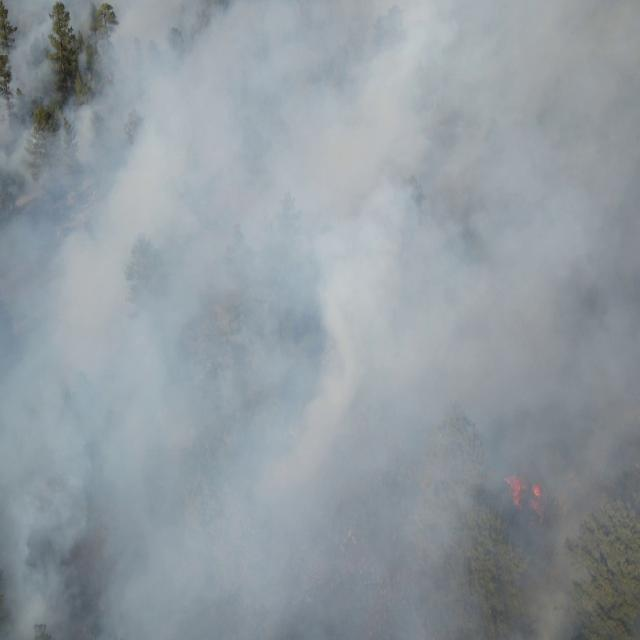fire: (504, 468, 550, 518)
smoke: (0, 0, 640, 640)
